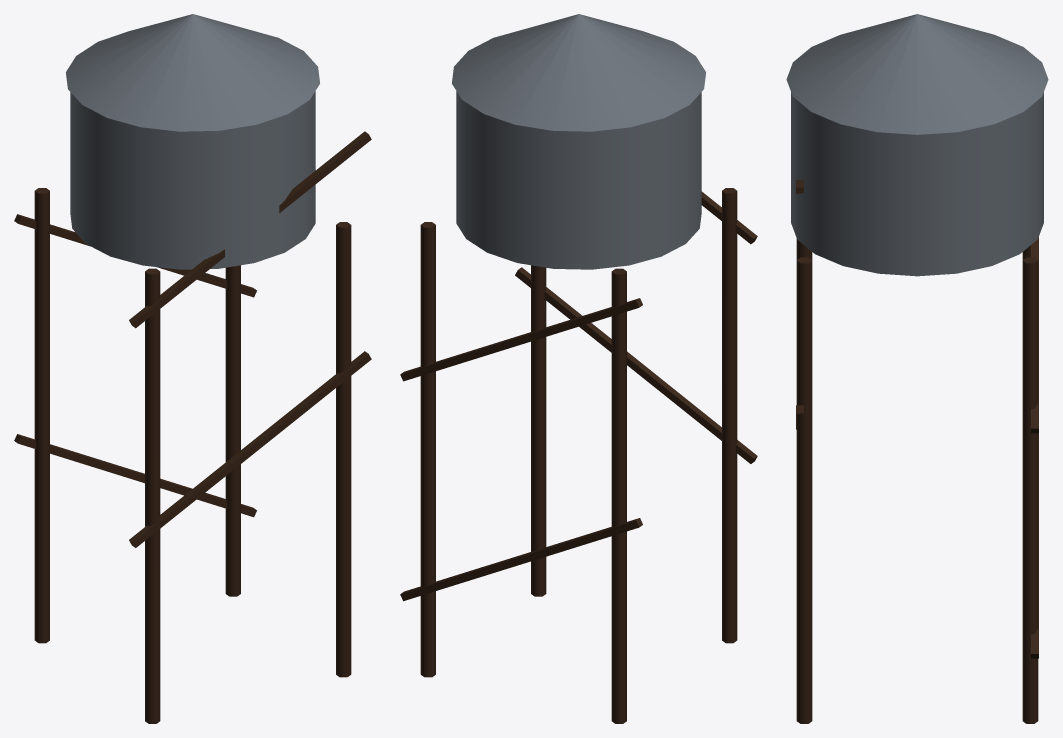
Rendered from water-tower.glb.
3 views of the same model, side by side, from view 1: azimuth 30°, elevation 25°; view 2: azimuth 150°, elevation 25°; view 3: azimuth 270°, elevation 25° (orthographic). The views are drawn at different scales.
Parts seen in each view (by area): view 1: tank, tankRoof, postRR, postFL, postRL, postFR, crossBrace2, crossBrace4, crossBrace1, crossBrace3; view 2: tank, tankRoof, postRL, postRR, postFR, postFL, crossBrace2, crossBrace1, crossBrace3, crossBrace4; view 3: tank, tankRoof, postFL, postFR, crossBrace3.
Part boxes in pixels (box(x1,y1,x2,y2)): tank: box(70, 91, 315, 269); tankRoof: box(66, 14, 319, 131); postRR: box(34, 188, 49, 643); postFL: box(336, 222, 351, 677); postRL: box(145, 268, 160, 723); postFR: box(225, 265, 240, 596); crossBrace2: box(129, 351, 371, 547); crossBrace4: box(129, 131, 371, 328); crossBrace1: box(14, 434, 256, 517); crossBrace3: box(14, 214, 256, 297); tank: box(456, 91, 701, 269); tankRoof: box(452, 14, 705, 131); postRL: box(722, 188, 737, 643); postRR: box(611, 268, 626, 723); postFR: box(420, 222, 435, 677); postFL: box(531, 265, 546, 596); crossBrace2: box(515, 267, 757, 463); crossBrace1: box(400, 518, 642, 601); crossBrace3: box(400, 298, 642, 381); crossBrace4: box(701, 191, 757, 244); tank: box(791, 92, 1043, 276); tankRoof: box(786, 14, 1048, 134); postFL: box(796, 257, 812, 723); postFR: box(1022, 257, 1038, 723); crossBrace3: box(1031, 237, 1038, 433).
Bounding box in the file's own units: 1.25 × 3.22 × 1.16.
